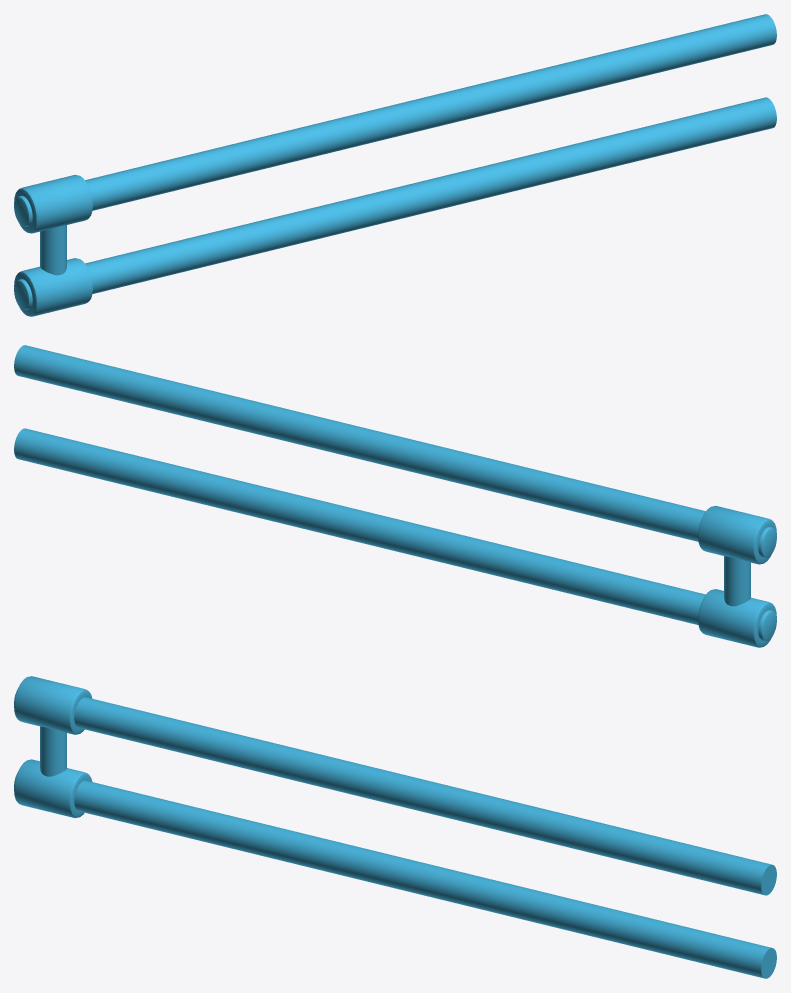
The model's file is rod.fbx.
3 views of the same model, one above another, from view 1: azimuth 30°, elevation 25°; view 2: azimuth 150°, elevation 25°; view 3: azimuth 330°, elevation 25° (orthographic).
Parts seen in each view (by area): view 1: rod; view 2: rod; view 3: rod.
Part boxes in pixels (x1,y1,x2,y2): rod: (14, 14, 776, 316); rod: (14, 345, 776, 647); rod: (14, 676, 776, 978).
Bounding box in the file's own units: 4.63 × 0.7414 × 0.2519.
